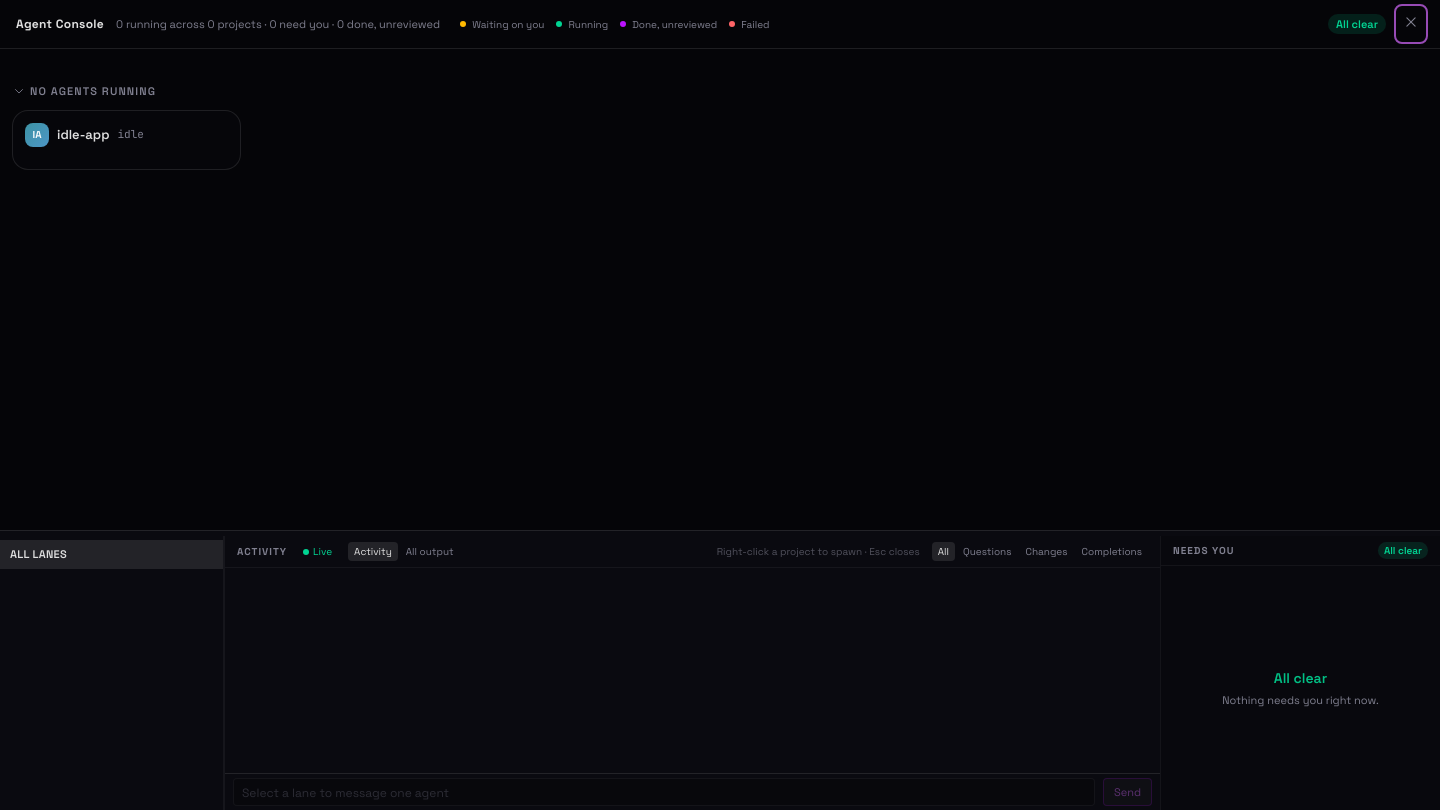
Scenario: AgentConsole idle project list › says how many projects the fold is hiding
Click the button "No agents running": (84, 91) x1=8 y1=81 x2=160 y2=102
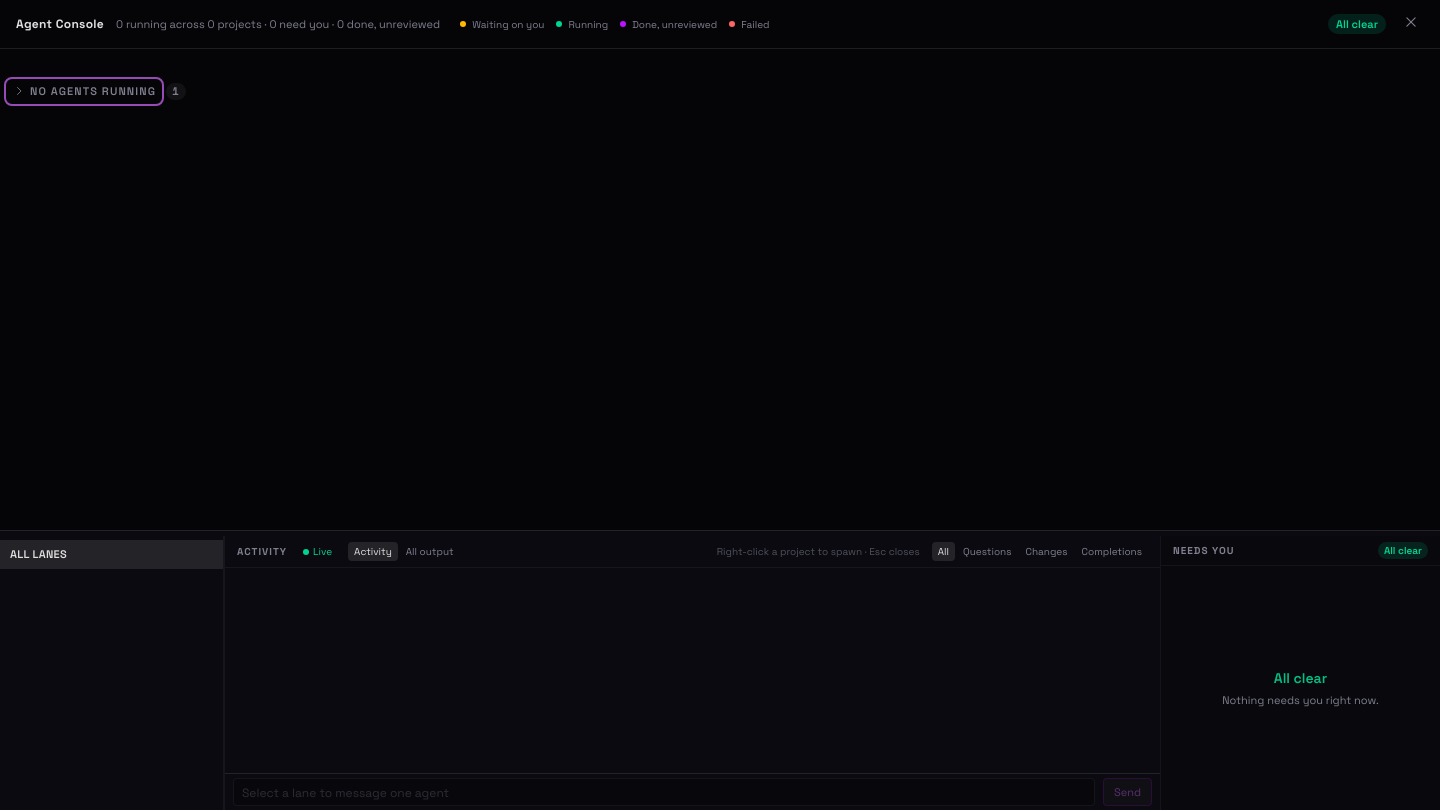
Check: the text with test id "agent-console-idle-count" reads "1", box x1=172 y1=84 x2=180 y2=98
